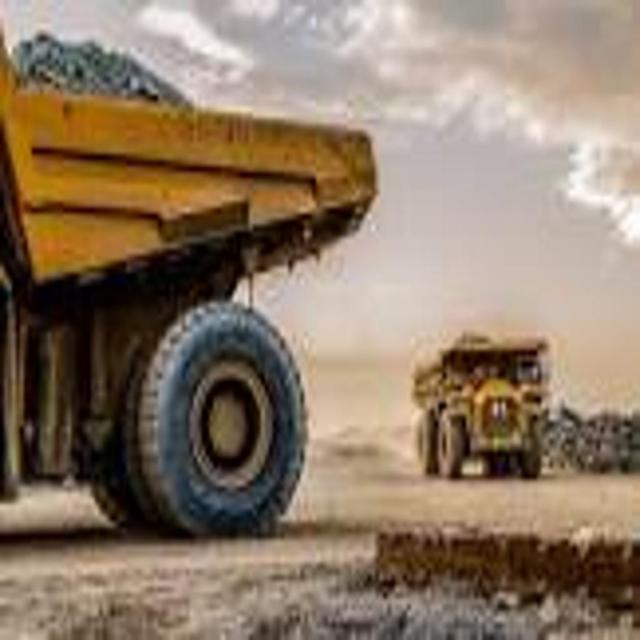dump_truck: (0, 42, 384, 540), (411, 311, 560, 492)
